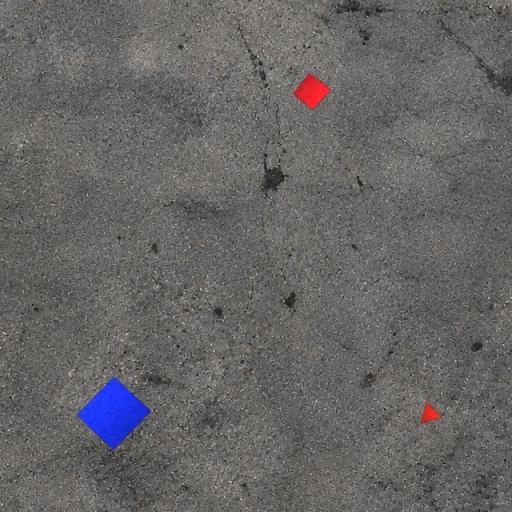BLUE_SQUARE: (76, 376, 152, 450)
RED_SQUARE: (292, 72, 332, 110)
